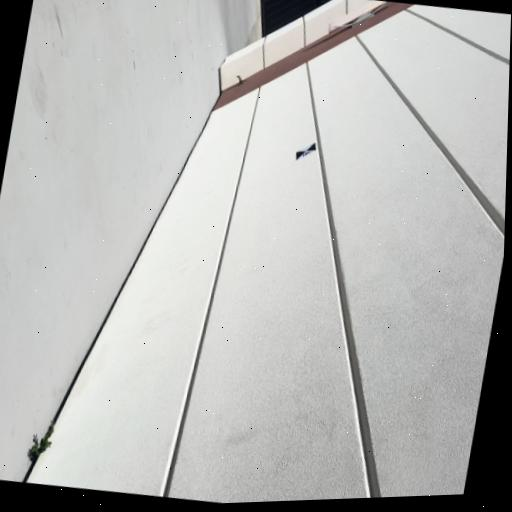target4: (295, 142, 316, 161)
